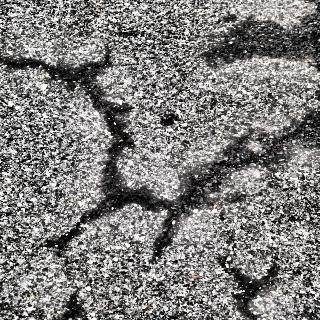alligator-crack: (1, 45, 320, 320)
